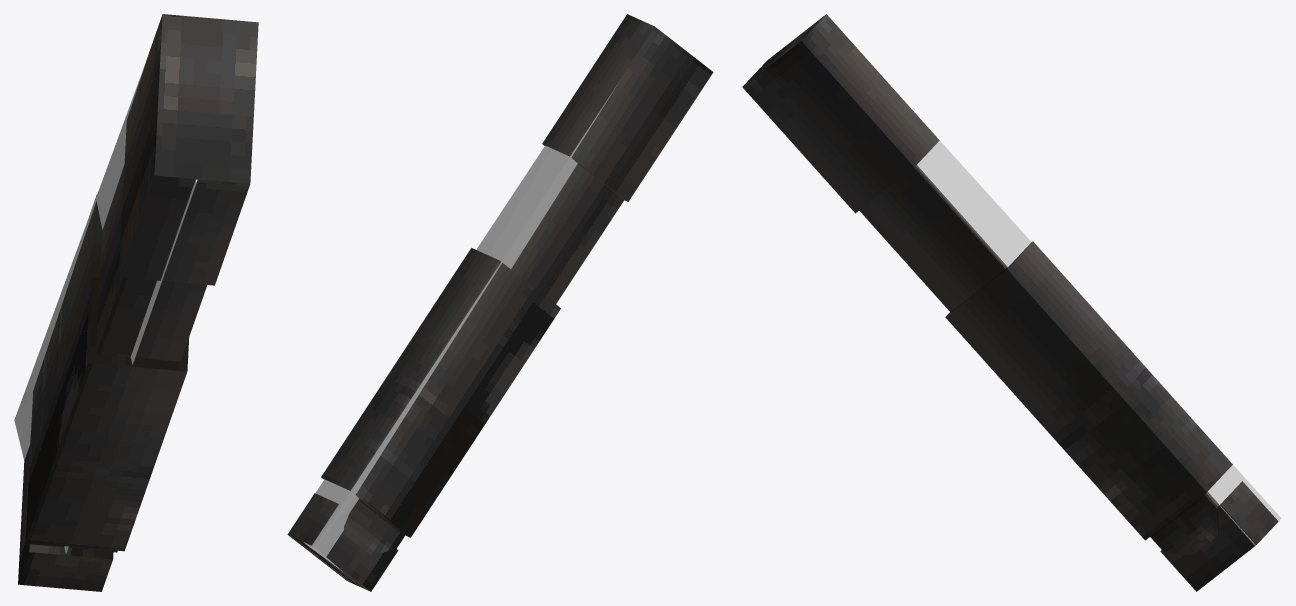
3 views of the same model, side by side, from view 1: azimuth 30°, elevation 25°; view 2: azimuth 150°, elevation 25°; view 3: azimuth 270°, elevation 25° (orthographic). The views are drawn at different scales.
Parts seen in each view (by area): view 1: surface_000, surface_001; view 2: surface_000, surface_001; view 3: surface_000, surface_001.
Part boxes in pixels (x1=…): surface_000: x1=18, y1=14, x2=258, y2=591; surface_001: x1=14, y1=58, x2=197, y2=553; surface_000: x1=287, y1=14, x2=713, y2=591; surface_001: x1=303, y1=83, x2=618, y2=571; surface_000: x1=742, y1=14, x2=1278, y2=591; surface_001: x1=916, y1=140, x2=1281, y2=545.
Size of the model in its own units: 11.56 by 25.43 by 24.63.
